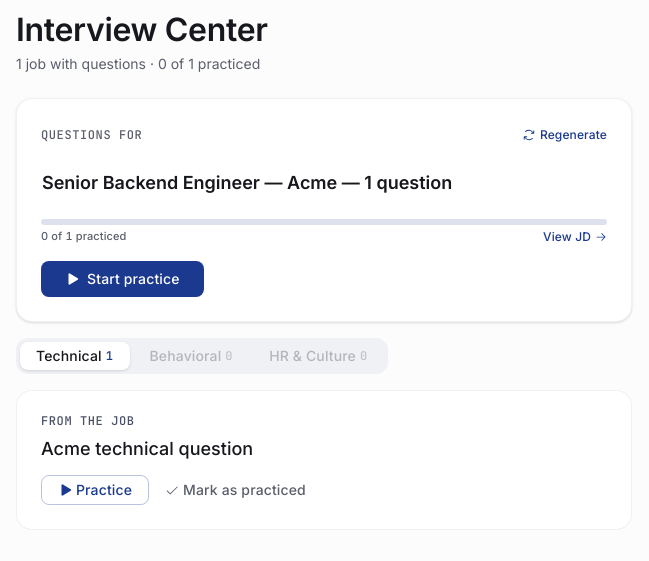
Test case: InterviewIndexPage — real questions exist across JDs › says written follow-up answers are lost too, since they were paid for
The width and height of the screenshot is (649, 561).
Click the button "Regenerate" at (564, 135), box [522,123,607,147]
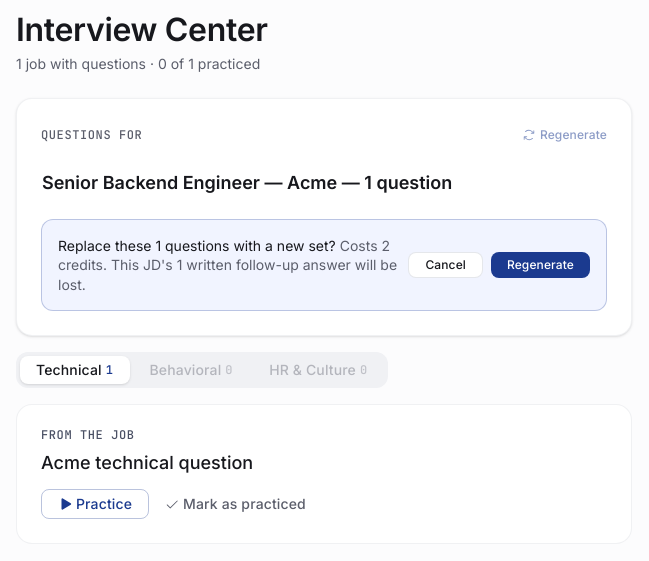
expect the text "This JD's 1 written follow-up answer will be lost." is shown: met, box [58,256,397,293]
